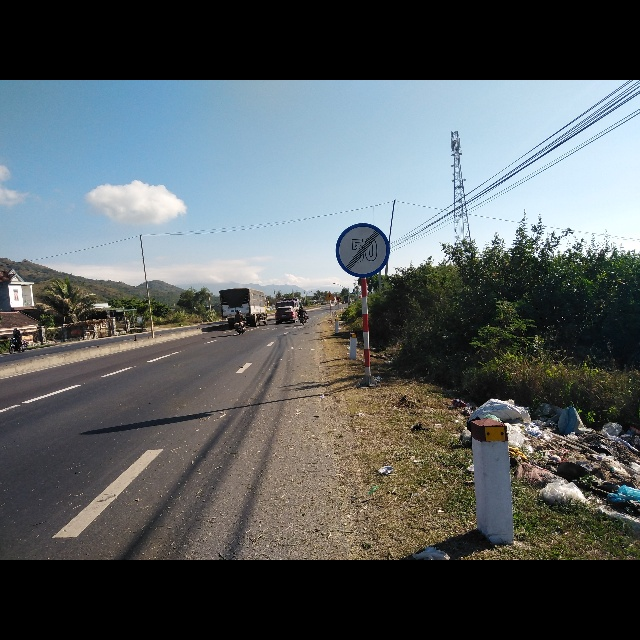Hết hạn chế tốc độ tối đa 50km/h: (333, 221, 390, 281)
